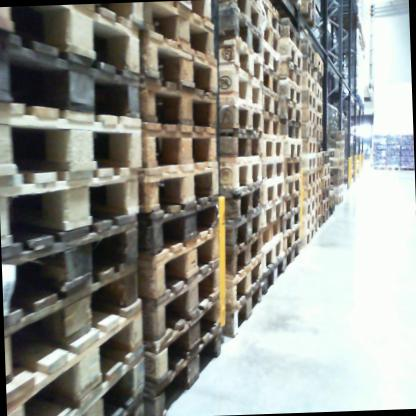pallet: (3, 251, 149, 396), (1, 212, 146, 334), (4, 299, 150, 416), (0, 18, 143, 132), (0, 164, 146, 264), (0, 95, 142, 189), (0, 7, 142, 81), (143, 294, 224, 388), (144, 324, 227, 415), (142, 261, 225, 351), (50, 348, 152, 416), (143, 226, 225, 308), (139, 25, 215, 98), (138, 77, 218, 143), (142, 197, 227, 259), (139, 164, 223, 219), (146, 2, 220, 60), (139, 131, 219, 173), (216, 62, 267, 119), (215, 4, 263, 61), (219, 255, 266, 311), (219, 282, 266, 336), (219, 32, 264, 84), (215, 160, 268, 199), (213, 215, 264, 255), (210, 127, 266, 162), (217, 185, 265, 223), (91, 2, 151, 32), (221, 232, 262, 274), (216, 107, 265, 137), (167, 2, 217, 27), (256, 236, 289, 271), (255, 259, 285, 297), (283, 0, 316, 32), (277, 35, 307, 70), (114, 391, 152, 416), (235, 0, 265, 29), (256, 199, 285, 229), (261, 34, 281, 77), (277, 13, 300, 46), (260, 220, 284, 251), (259, 0, 281, 33), (262, 177, 287, 206), (281, 215, 304, 246), (266, 19, 284, 58), (281, 187, 303, 218), (262, 133, 286, 160), (262, 158, 286, 184), (279, 60, 302, 87), (281, 207, 302, 235), (284, 239, 302, 270), (266, 85, 281, 120), (280, 149, 302, 172), (263, 65, 280, 94), (280, 116, 300, 140), (279, 86, 303, 105), (277, 102, 301, 121), (283, 174, 303, 196), (263, 111, 282, 133), (283, 136, 301, 159), (314, 81, 326, 115), (296, 170, 316, 190), (299, 228, 318, 248), (300, 181, 319, 201), (301, 73, 317, 96), (301, 107, 316, 129), (305, 53, 316, 82), (302, 154, 319, 172), (299, 92, 317, 109), (313, 106, 325, 129), (300, 200, 318, 215), (301, 215, 318, 230), (303, 138, 318, 155), (300, 123, 317, 138), (330, 126, 348, 139), (329, 137, 346, 149), (330, 166, 347, 178), (327, 149, 346, 159), (321, 188, 335, 201), (328, 158, 348, 167), (314, 50, 322, 72), (309, 37, 316, 60), (318, 164, 334, 174), (385, 162, 401, 172), (317, 152, 331, 163), (331, 186, 346, 196), (315, 134, 327, 145), (334, 196, 347, 206), (313, 166, 321, 181), (322, 173, 334, 183), (316, 203, 324, 217), (400, 164, 413, 172), (318, 176, 325, 190), (317, 71, 323, 87), (373, 161, 386, 168), (331, 176, 344, 182), (316, 156, 323, 166), (318, 190, 323, 204), (325, 202, 332, 212), (325, 213, 332, 221), (318, 217, 322, 226)
